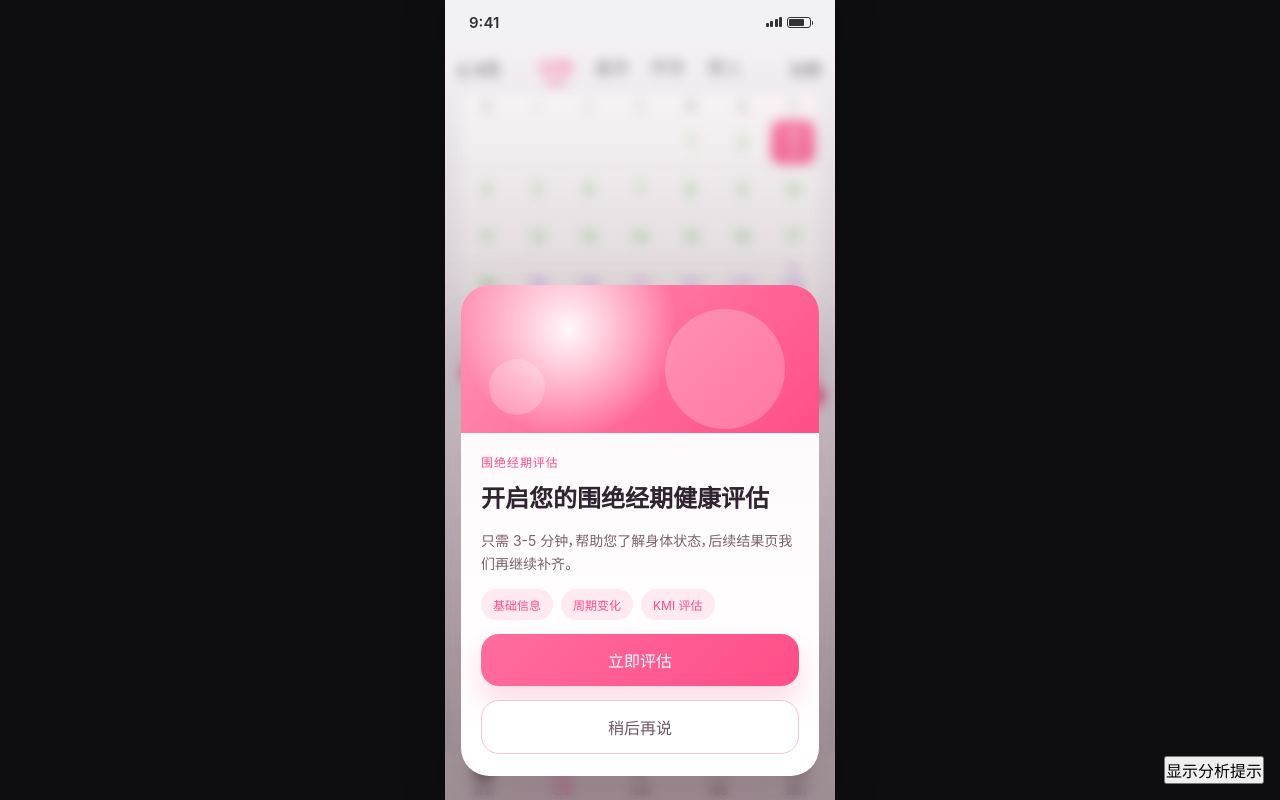
Test: scene1 interaction › shows the prototype analysis notice after period start is confirmed
Click the button "稍后再说" at (640, 727), box [481,700,799,754]
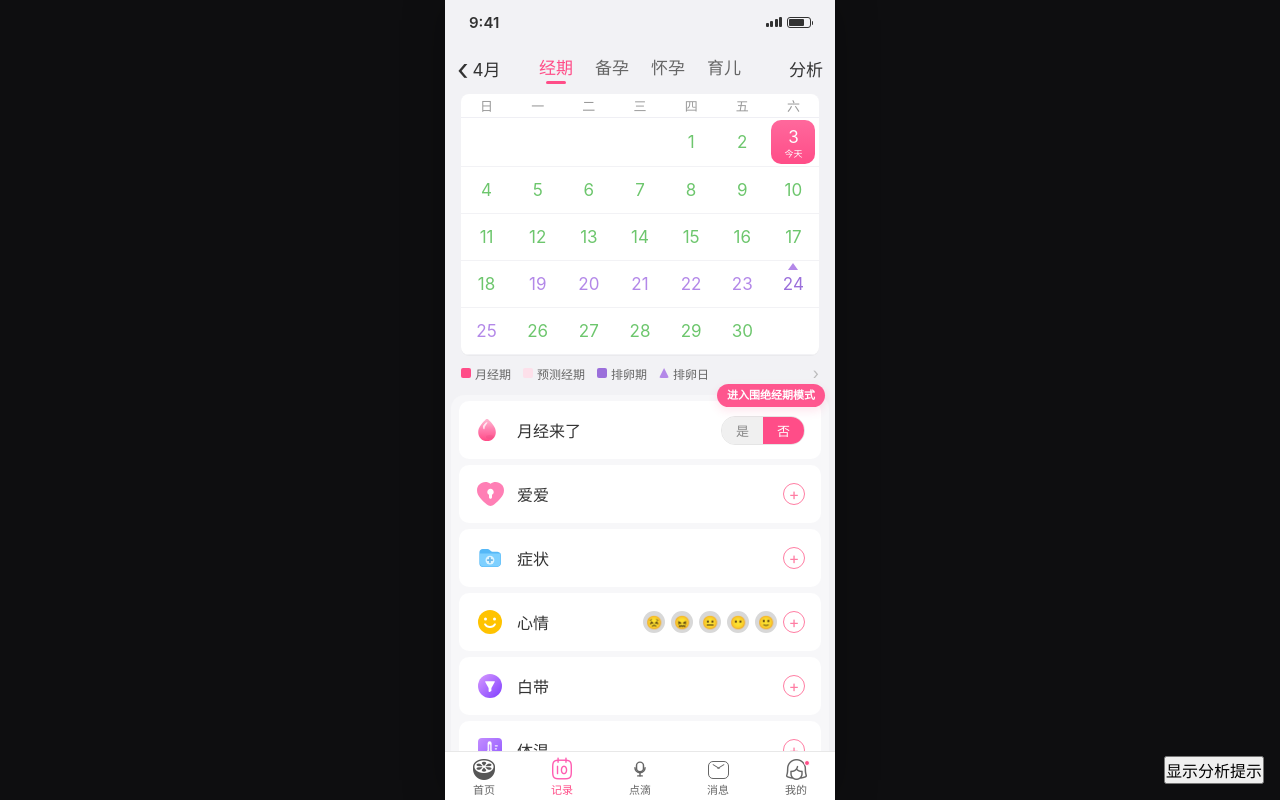
Click the button "是" at (742, 430), box [722,416,763,444]
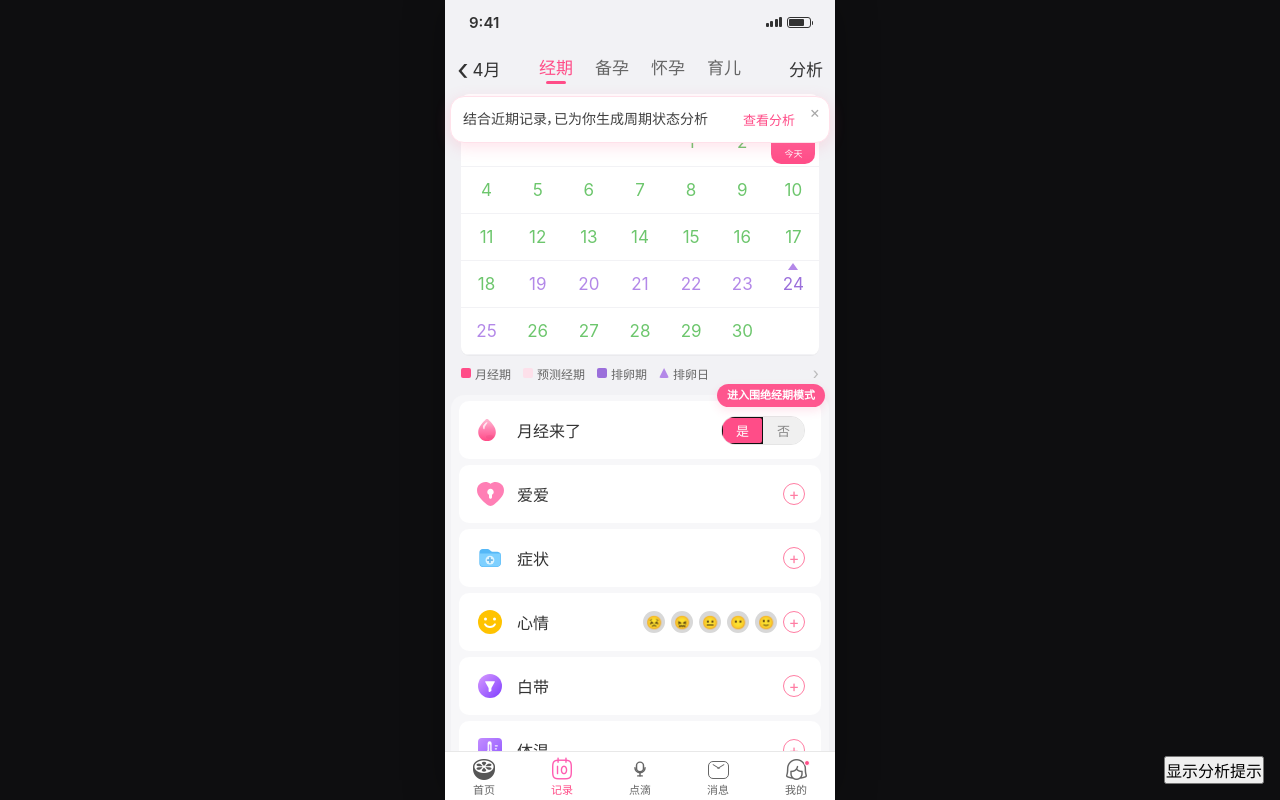
Now the text "结合近期记录，已为你生成周期状态分析" is shown, box [463,109,733,130]
Now the button "查看分析" is shown, box [743,110,795,129]
